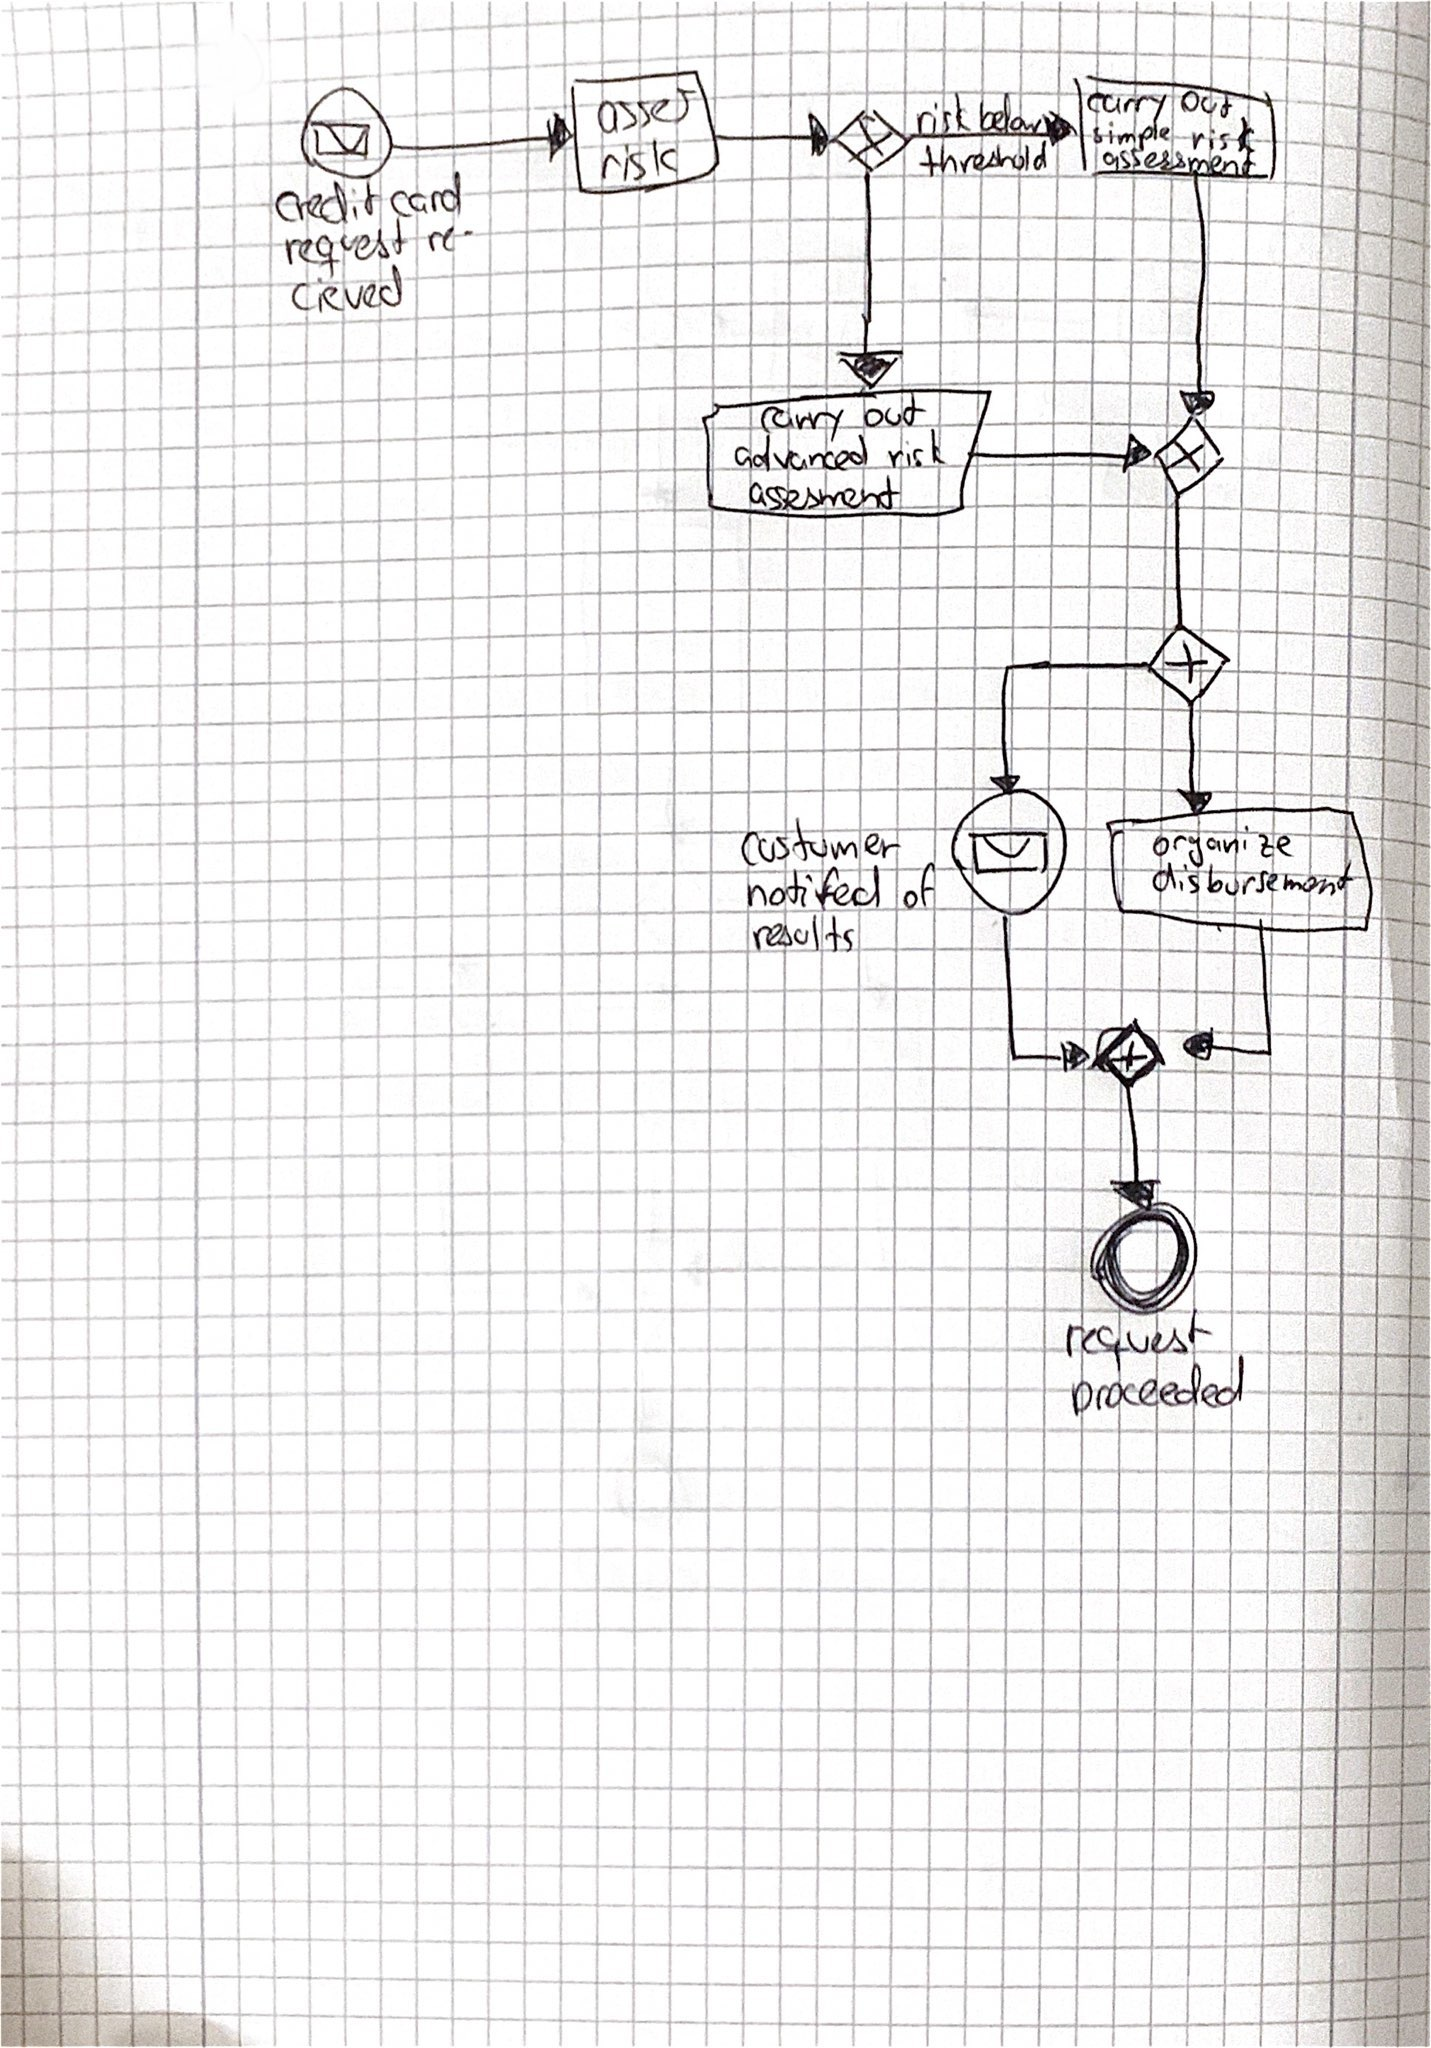Out: (1174, 86, 1238, 121)
advanced: (729, 431, 873, 476)
asses: (593, 82, 702, 139)
assesment: (743, 476, 905, 514)
assessment: (1097, 143, 1261, 181)
below: (975, 90, 1045, 140)
card: (386, 167, 467, 223)
carry: (754, 402, 849, 447), (1083, 89, 1171, 126)
cieved: (286, 261, 409, 317)
credit: (269, 174, 386, 230)
customer: (737, 814, 904, 871)
disbursement: (1146, 857, 1358, 903)
notified: (743, 861, 890, 914)
of: (897, 859, 941, 914)
organize: (1146, 822, 1297, 871)
out: (859, 391, 927, 436)
proceeded: (1065, 1352, 1249, 1422)
re-: (425, 219, 478, 255)
request: (1059, 1304, 1216, 1376)
results: (750, 910, 862, 959)
risk: (597, 135, 684, 187), (1185, 114, 1258, 157), (911, 89, 975, 139), (883, 426, 947, 475)
simple: (1087, 115, 1177, 154)
threshold: (918, 137, 1055, 182)
